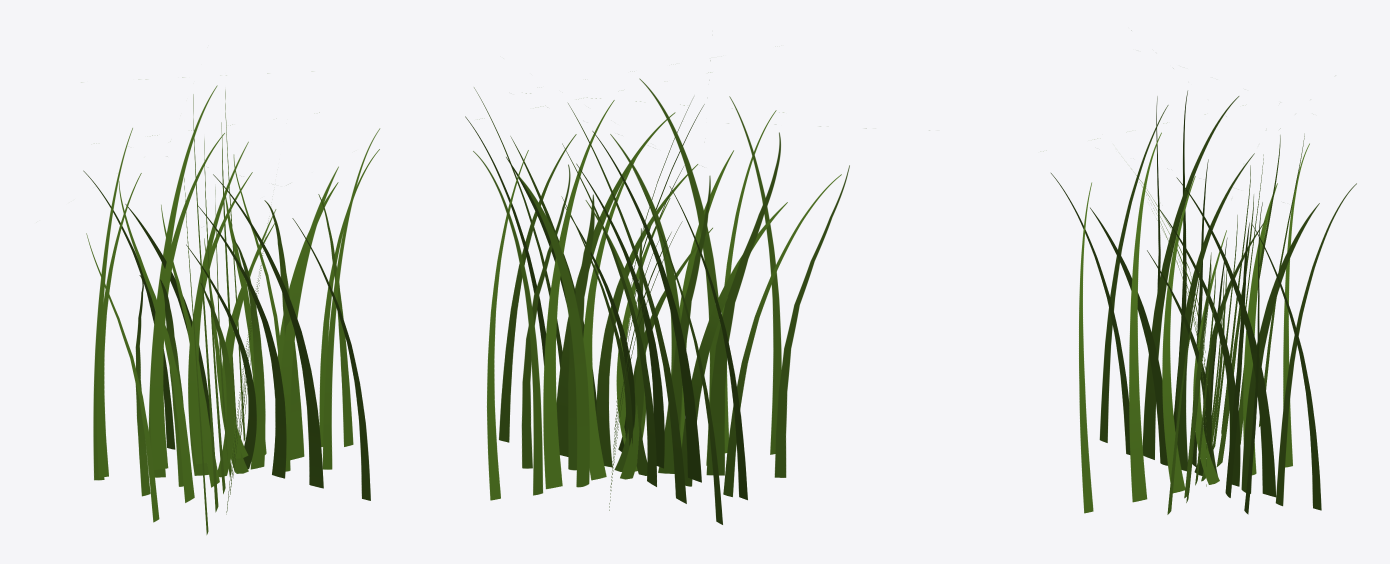
Rendered from grassAltModel.gltf.
The picture shows the model from 3 angles, left to right: view 1: azimuth 30°, elevation 25°; view 2: azimuth 150°, elevation 25°; view 3: azimuth 270°, elevation 25°; orthographic projection. The views are drawn at different scales.
Parts seen in each view (by area): view 1: pPlane12; view 2: pPlane12; view 3: pPlane12.
Part boxes in pixels (left/top/right/bottom): pPlane12: left=83, top=77, right=380, bottom=534; pPlane12: left=465, top=60, right=866, bottom=524; pPlane12: left=1051, top=91, right=1356, bottom=514.
Size of the model in its own units: 69.55 by 60 by 51.91.
1 material, 1 textured.
